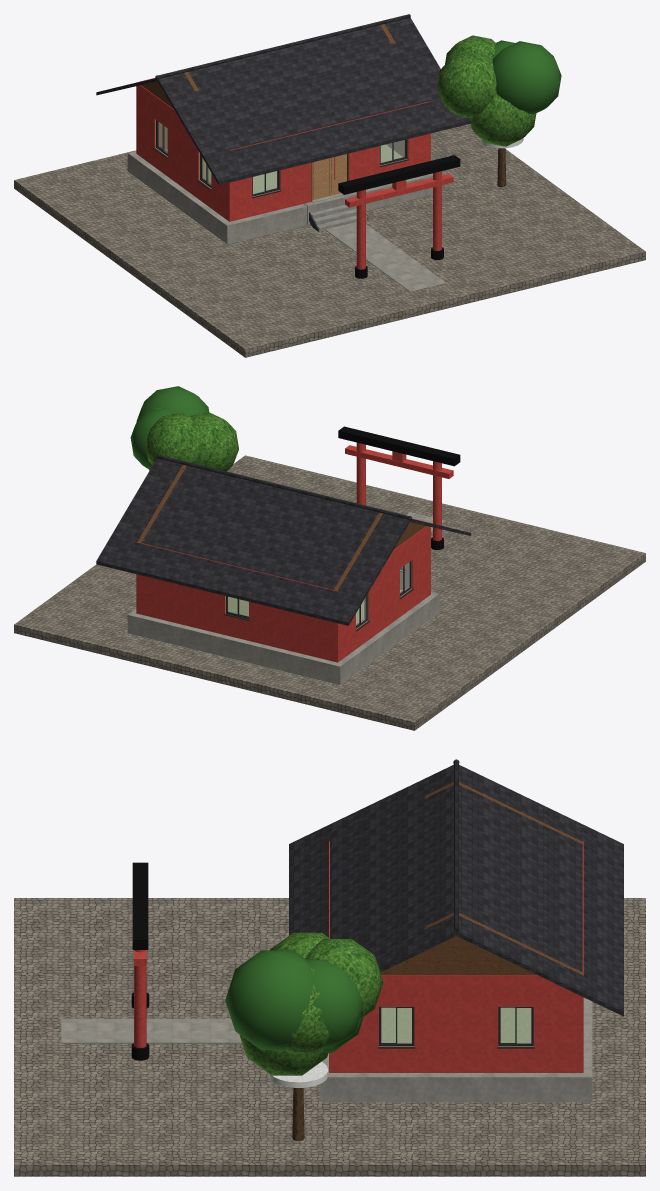
Rendered from b_shinto_shrine.gltf.
3 views of the same model, one above another, from view 1: azimuth 30°, elevation 25°; view 2: azimuth 150°, elevation 25°; view 3: azimuth 270°, elevation 25° (orthographic). The views are drawn at different scales.
Parts seen in each view (by area): view 1: S_shinto_shrine, D_shinto_shrine_F1_S2_Door0, D_shinto_shrine_F1_S2_Door1; view 2: S_shinto_shrine; view 3: S_shinto_shrine.
Boxes of the visible parts, bbox=[...] form: S_shinto_shrine: bbox=[14, 14, 645, 357]; D_shinto_shrine_F1_S2_Door0: bbox=[312, 158, 328, 199]; D_shinto_shrine_F1_S2_Door1: bbox=[329, 154, 346, 195]; S_shinto_shrine: bbox=[14, 386, 645, 730]; S_shinto_shrine: bbox=[14, 759, 645, 1176].
Bounding box in the file's own units: 20.31 × 7.22 × 20.
22 materials, 14 textured.
